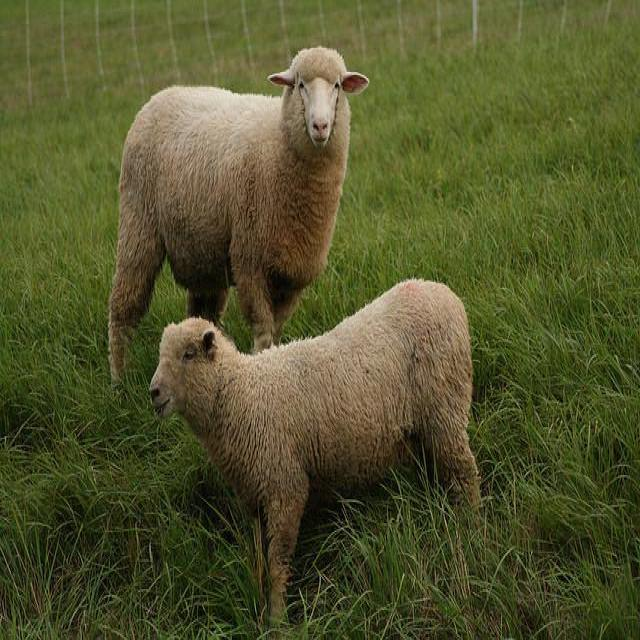Sheep: (149, 279, 482, 632), (108, 44, 373, 386)
